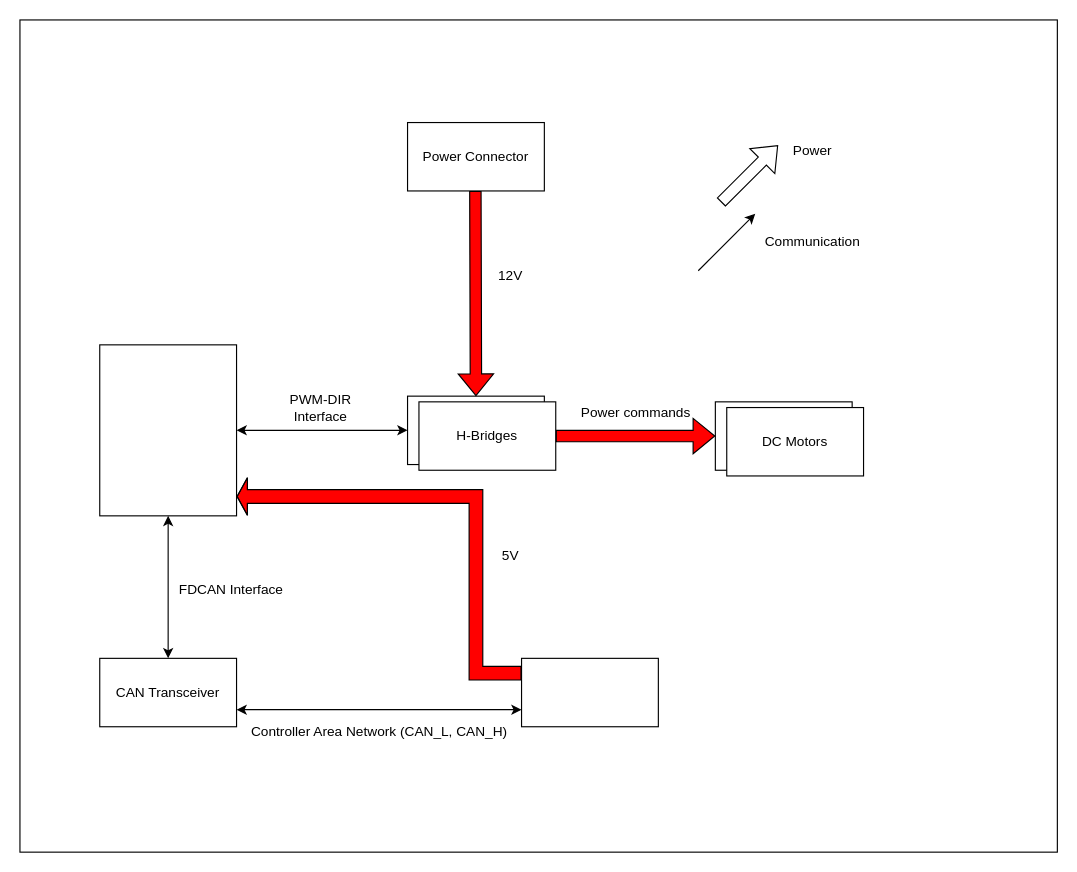
The diagram is 1077 pixels wide and 872 high, and some of its shapes have lost their labels. The box of each missing label's shape, as (x1, y1, x2, y2) in pixels:
CAN Bus connector: (520, 657, 658, 727)
Nucleo STM32: (99, 344, 237, 516)
